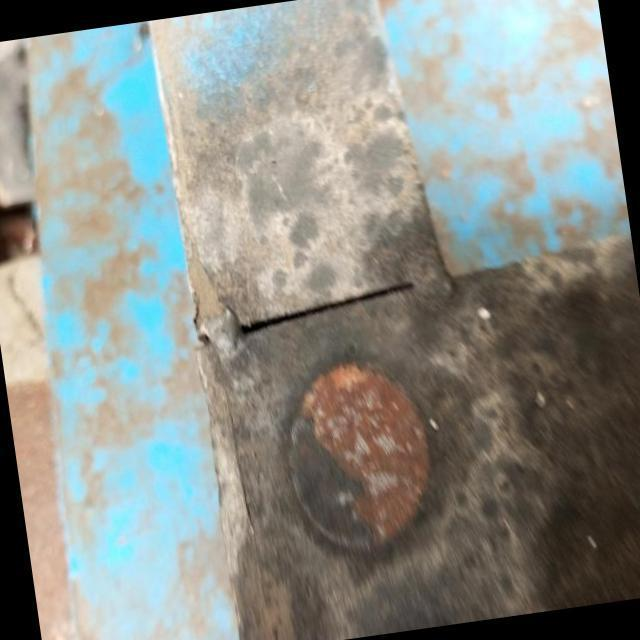defect: (235, 278, 417, 336)
